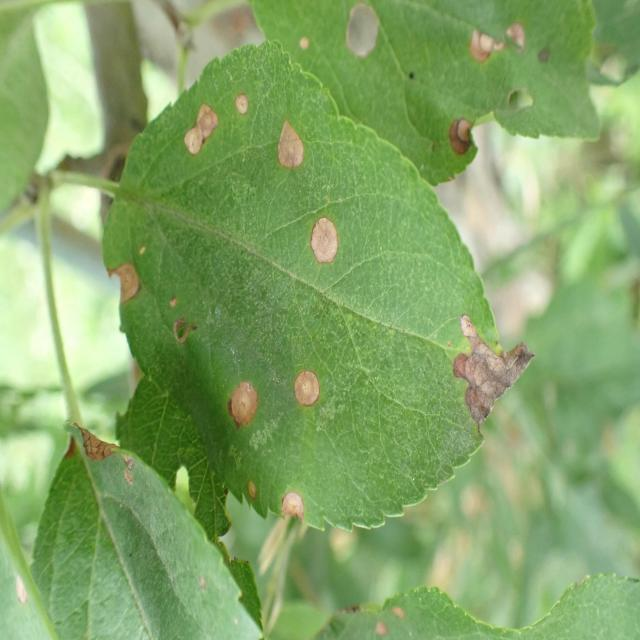Black Rot: (159, 447, 289, 629), (445, 294, 532, 450), (463, 2, 534, 72), (279, 352, 339, 427), (99, 234, 142, 329), (183, 78, 224, 169), (342, 0, 381, 90), (270, 109, 313, 184), (448, 99, 484, 180), (272, 485, 315, 549), (160, 279, 190, 362), (304, 210, 342, 274), (228, 376, 259, 440), (230, 77, 257, 139), (500, 86, 546, 118), (296, 22, 318, 77)
